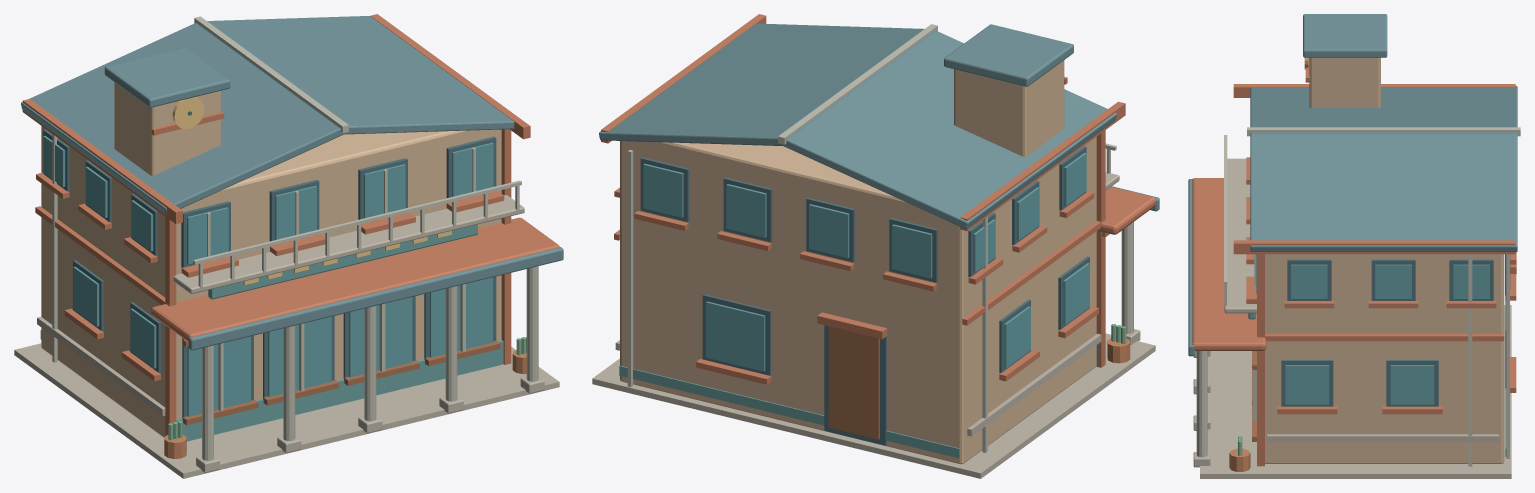
File: corner-market.glb
The picture shows the model from 3 angles, left to right: view 1: azimuth 30°, elevation 25°; view 2: azimuth 150°, elevation 25°; view 3: azimuth 270°, elevation 25°; orthographic projection. The views are drawn at different scales.
Parts seen in each view (by area): view 1: __art_export_tmp__homecoming_corner_market_root_slate_tile, __art_export_tmp__homecoming_corner_market_root_cream_plaste, __art_export_tmp__homecoming_corner_market_root_terracotta, __art_export_tmp__homecoming_corner_market_root_blue_glass, __art_export_tmp__homecoming_corner_market_root_stone_paving, __art_export_tmp__homecoming_corner_market_root_pale_metal, __art_export_tmp__homecoming_corner_market_root_window_shado, __art_export_tmp__homecoming_corner_market_root_storm_teal, __art_export_tmp__homecoming_corner_market_root_warm_wood, __art_export_tmp__homecoming_corner_market_root_market_gold, __art_export_tmp__homecoming_corner_market_root_clay; view 2: __art_export_tmp__homecoming_corner_market_root_cream_plaste, __art_export_tmp__homecoming_corner_market_root_slate_tile, __art_export_tmp__homecoming_corner_market_root_blue_glass, __art_export_tmp__homecoming_corner_market_root_terracotta, __art_export_tmp__homecoming_corner_market_root_stone_paving, __art_export_tmp__homecoming_corner_market_root_window_shado, __art_export_tmp__homecoming_corner_market_root_pale_metal, __art_export_tmp__homecoming_corner_market_root_warm_wood, __art_export_tmp__homecoming_corner_market_root_storm_teal; view 3: __art_export_tmp__homecoming_corner_market_root_slate_tile, __art_export_tmp__homecoming_corner_market_root_cream_plaste, __art_export_tmp__homecoming_corner_market_root_terracotta, __art_export_tmp__homecoming_corner_market_root_stone_paving, __art_export_tmp__homecoming_corner_market_root_blue_glass, __art_export_tmp__homecoming_corner_market_root_pale_metal, __art_export_tmp__homecoming_corner_market_root_window_shado, __art_export_tmp__homecoming_corner_market_root_clay.
Part boxes in pixels (x1,y1,x2,y2): __art_export_tmp__homecoming_corner_market_root_slate_tile: (21,16,563,350); __art_export_tmp__homecoming_corner_market_root_cream_plaste: (41,82,501,437); __art_export_tmp__homecoming_corner_market_root_terracotta: (22,14,559,435); __art_export_tmp__homecoming_corner_market_root_blue_glass: (43,135,493,416); __art_export_tmp__homecoming_corner_market_root_stone_paving: (14,195,559,478); __art_export_tmp__homecoming_corner_market_root_pale_metal: (52,16,538,460); __art_export_tmp__homecoming_corner_market_root_window_shado: (43,111,496,418); __art_export_tmp__homecoming_corner_market_root_storm_teal: (40,224,503,441); __art_export_tmp__homecoming_corner_market_root_warm_wood: (182,339,500,425); __art_export_tmp__homecoming_corner_market_root_market_gold: (172,97,451,285); __art_export_tmp__homecoming_corner_market_root_clay: (164,350,526,458); __art_export_tmp__homecoming_corner_market_root_cream_plaste: (620,60,1096,464); __art_export_tmp__homecoming_corner_market_root_slate_tile: (599,23,1159,229); __art_export_tmp__homecoming_corner_market_root_blue_glass: (643,152,1089,371); __art_export_tmp__homecoming_corner_market_root_terracotta: (601,14,1155,384); __art_export_tmp__homecoming_corner_market_root_stone_paving: (592,172,1155,478); __art_export_tmp__homecoming_corner_market_root_window_shado: (640,146,1089,445); __art_export_tmp__homecoming_corner_market_root_pale_metal: (627,24,1133,452); __art_export_tmp__homecoming_corner_market_root_warm_wood: (828,326,879,439); __art_export_tmp__homecoming_corner_market_root_storm_teal: (619,343,1099,458); __art_export_tmp__homecoming_corner_market_root_slate_tile: (1188,14,1517,356); __art_export_tmp__homecoming_corner_market_root_cream_plaste: (1265,57,1504,463); __art_export_tmp__homecoming_corner_market_root_terracotta: (1192,57,1516,466); __art_export_tmp__homecoming_corner_market_root_stone_paving: (1193,158,1511,478); __art_export_tmp__homecoming_corner_market_root_blue_glass: (1256,254,1510,404); __art_export_tmp__homecoming_corner_market_root_pale_metal: (1196,127,1520,466); __art_export_tmp__homecoming_corner_market_root_window_shado: (1281,254,1506,406); __art_export_tmp__homecoming_corner_market_root_clay: (1229,448,1250,471).
Size of the model in its own units: 9.5 by 8.03 by 7.9.
